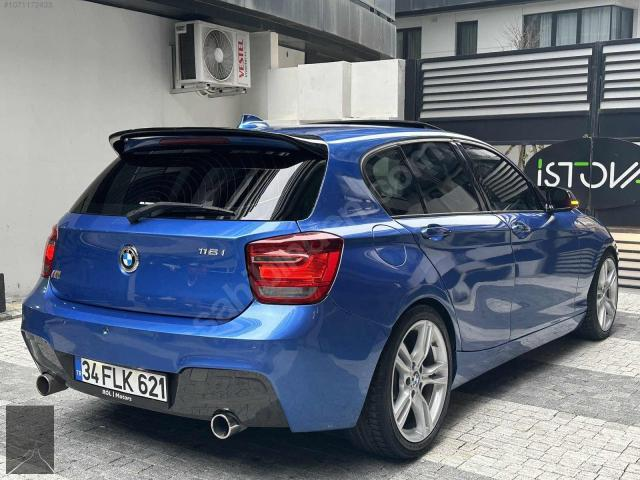plaka: (76, 358, 168, 402)
